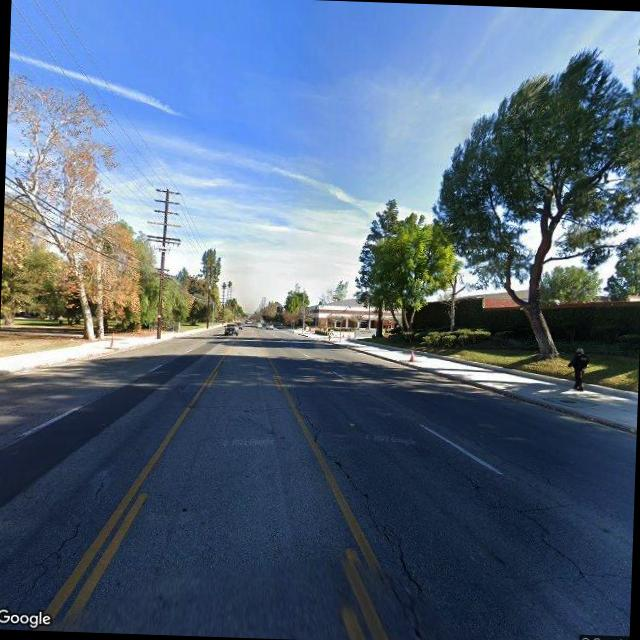pothole: (277, 381, 433, 624), (438, 454, 626, 604), (19, 464, 108, 606)
